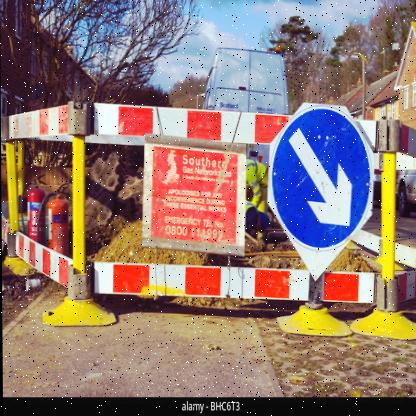Keep right: (271, 106, 377, 250)
